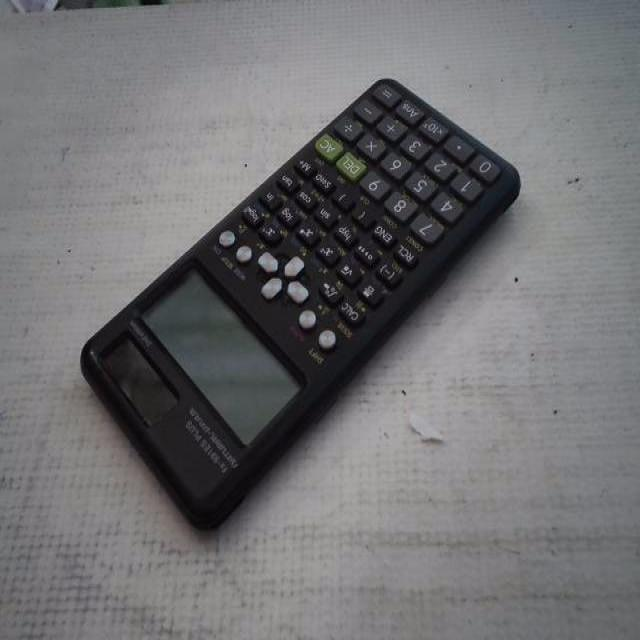Calculator: (77, 73, 523, 535)
